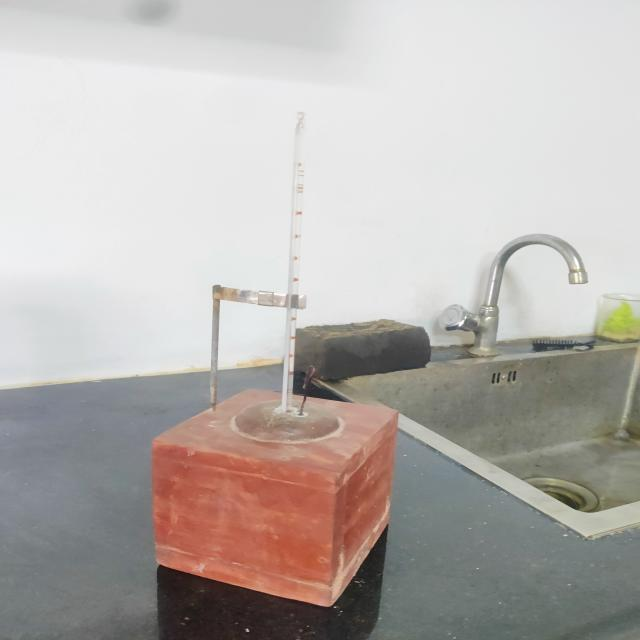Calorimeter: (116, 98, 425, 612)
